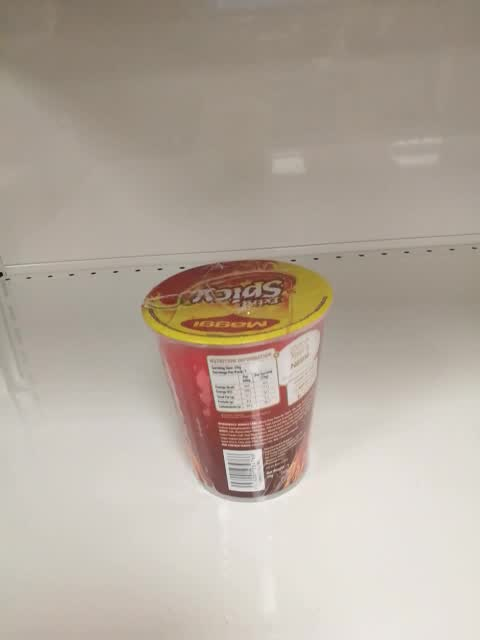maggi: (140, 259, 334, 503)
